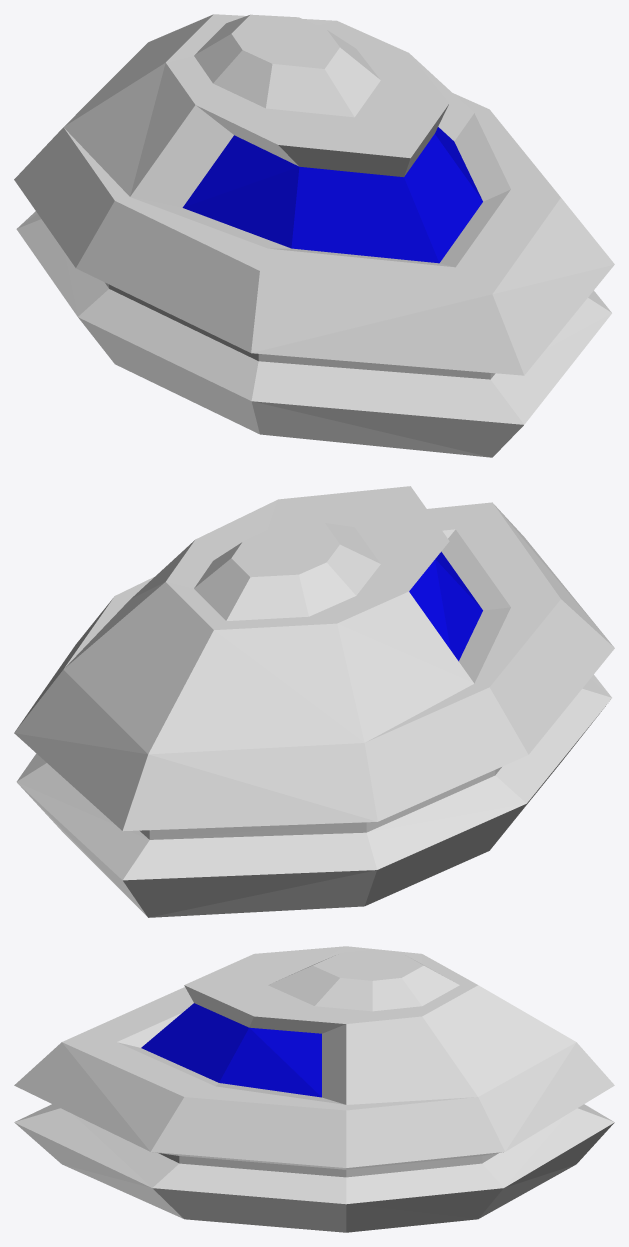
File: Body_Default.fbx
3 renders of one model, top to bottom at view 1: azimuth 30°, elevation 25°; view 2: azimuth 150°, elevation 25°; view 3: azimuth 270°, elevation 25°, orthographic. The views are drawn at different scales.
Parts seen in each view (by area): view 1: Body_Defau; view 2: Body_Defau; view 3: Body_Defau.
Boxes of the visible parts, x1,y1,x2,y2 form: Body_Defau: [14, 14, 614, 457]; Body_Defau: [14, 486, 614, 917]; Body_Defau: [14, 946, 614, 1232].
Size of the model in its own units: 1.23 by 0.8315 by 1.89.
